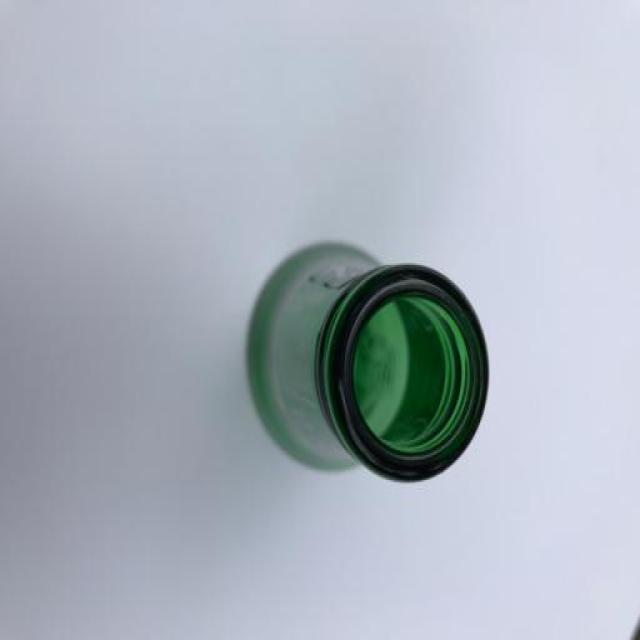glass: (248, 242, 492, 488)
